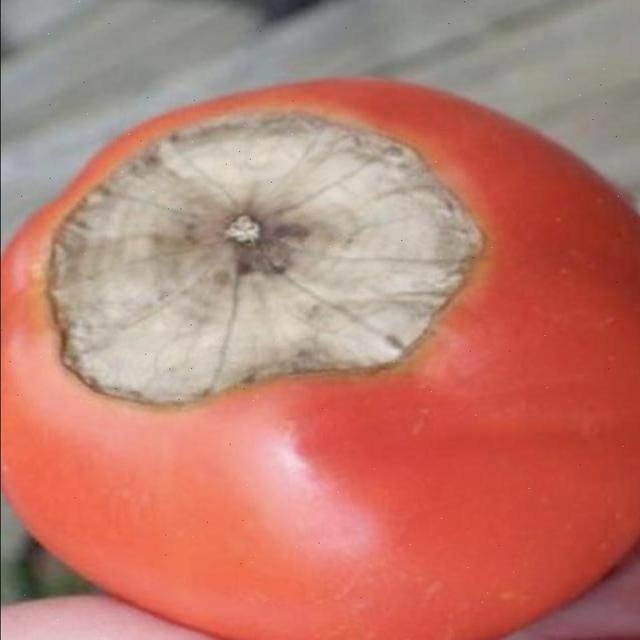Blossom End Rot Fruit: (26, 68, 342, 277)
